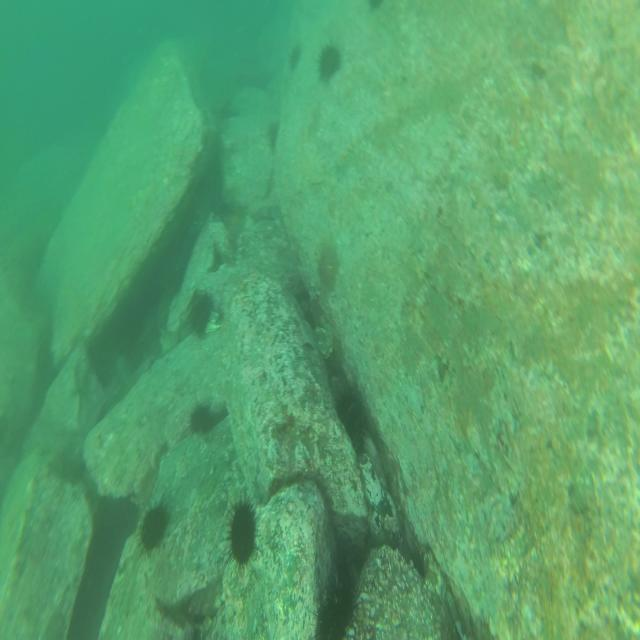echinus: (220, 491, 260, 580), (330, 388, 366, 457), (136, 496, 170, 556), (314, 240, 344, 295), (188, 287, 216, 341), (313, 39, 342, 83), (186, 398, 214, 438), (288, 42, 302, 74)
